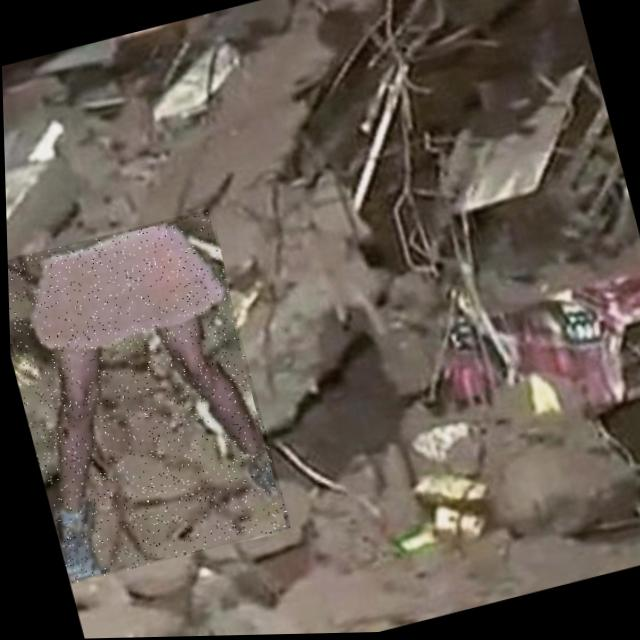Person in Rubble: (5, 208, 289, 585)
